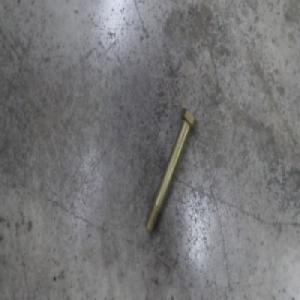Bolt: (144, 106, 197, 235)
